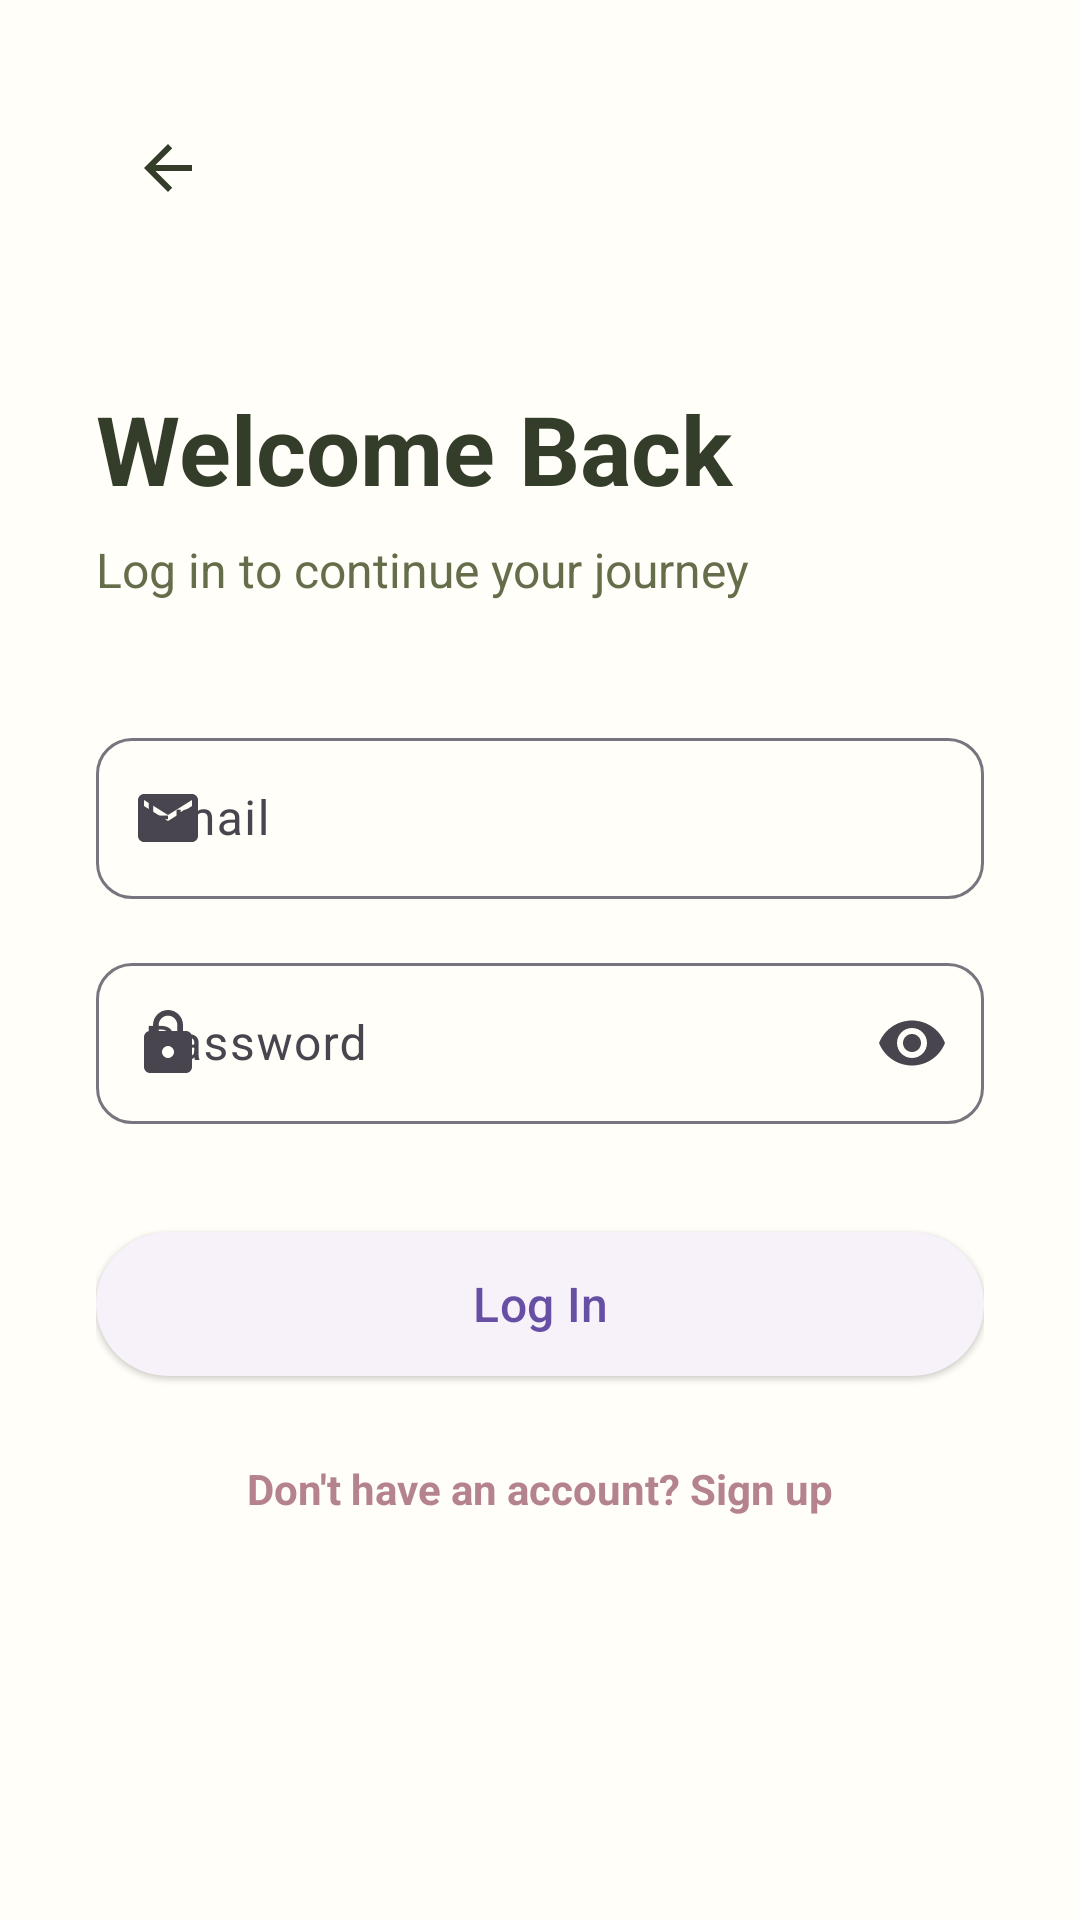

Where to tap for icons on this 1080px×1920px app screen, as point (x, y):
Go back: point (168, 168)
